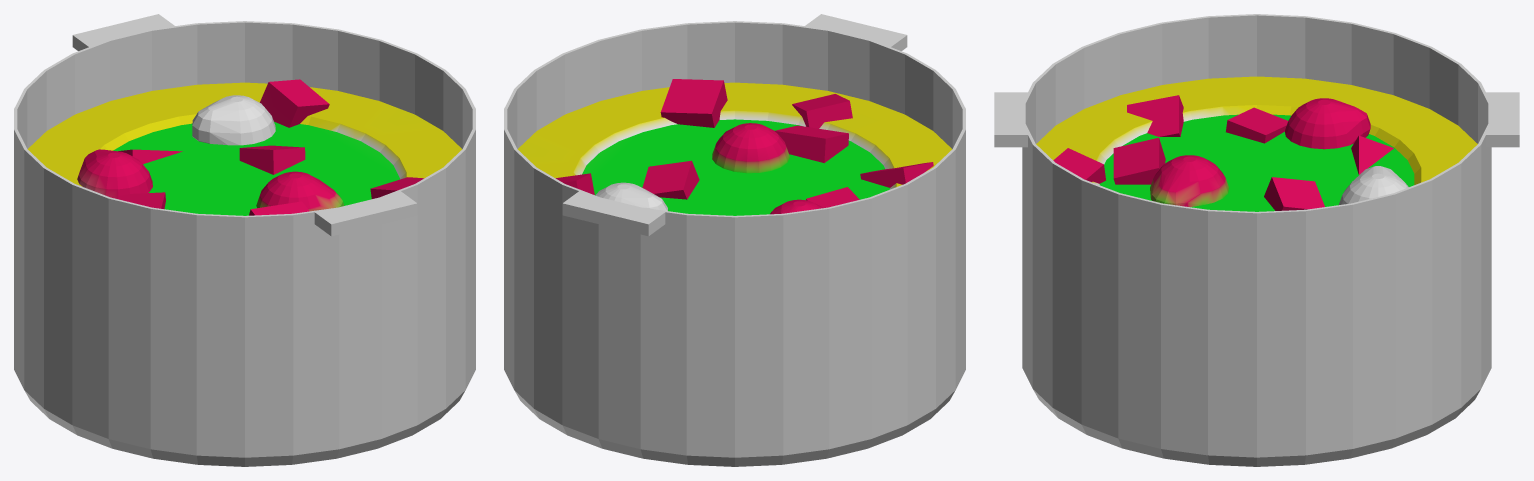
The model's file is PotatoSoup.fbx.
3 views of the same model, side by side, from view 1: azimuth 30°, elevation 25°; view 2: azimuth 150°, elevation 25°; view 3: azimuth 270°, elevation 25° (orthographic).
Parts seen in each view (by area): view 1: pot, foam, liquid, potatoes, dumplings-1, dumplings-2, dumplings-0; view 2: pot, foam, liquid, potatoes, dumplings-0, dumplings-1, dumplings-2; view 3: pot, foam, liquid, potatoes, dumplings-2, dumplings-0, dumplings-1.
Boxes of the visible parts, x1,y1,x2,y2 form: pot: (14, 14, 475, 466); foam: (27, 82, 462, 186); liquid: (113, 121, 399, 215); potatoes: (118, 79, 423, 215); dumplings-1: (192, 95, 275, 145); dumplings-2: (77, 149, 152, 198); dumplings-0: (256, 171, 343, 211); pot: (504, 14, 965, 466); foam: (517, 82, 952, 189); liquid: (582, 119, 889, 215); potatoes: (556, 79, 933, 207); dumplings-0: (712, 123, 789, 173); dumplings-1: (595, 182, 667, 210); dumplings-2: (770, 199, 823, 214); pot: (994, 14, 1519, 466); foam: (1036, 76, 1477, 184); liquid: (1099, 114, 1414, 211); potatoes: (1053, 95, 1393, 210); dumplings-2: (1285, 98, 1370, 149); dumplings-0: (1150, 155, 1229, 206); dumplings-1: (1339, 166, 1408, 204).
Size of the model in its own units: 70 by 42 by 78.
